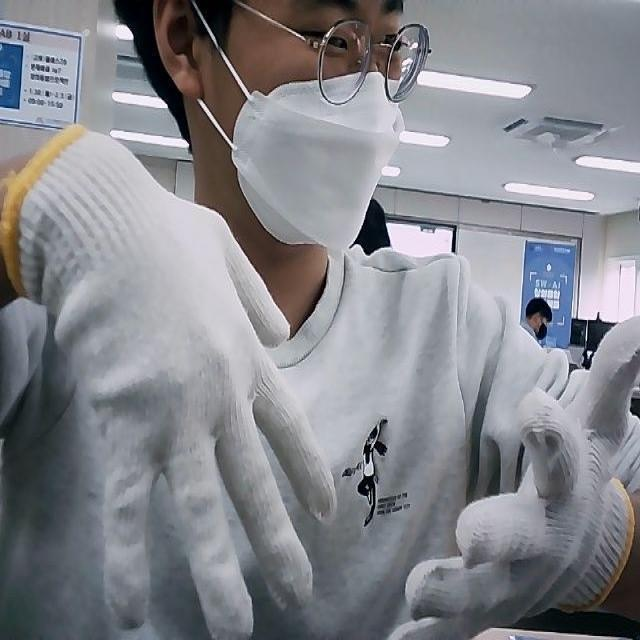Guantes: (0, 125, 338, 640), (405, 313, 640, 640)
